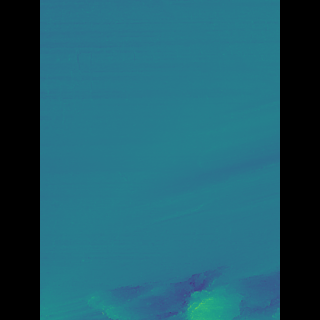Loch: (92, 261, 250, 319)
